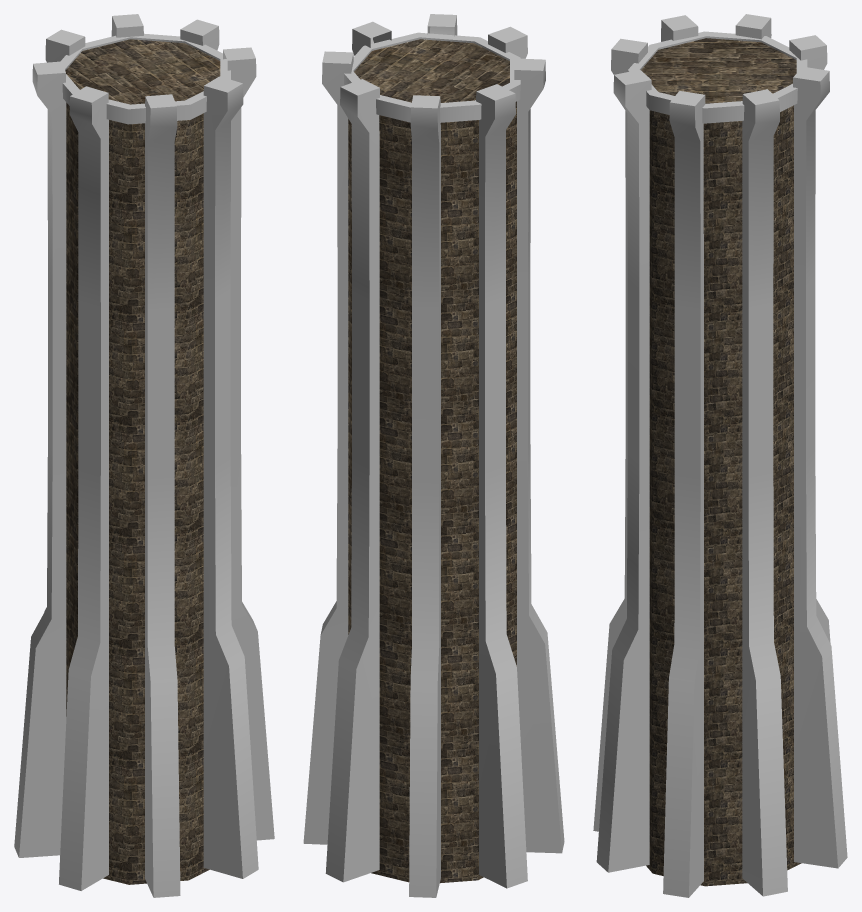
Rendered from SM_EN_2008_jianzhu05.FBX.
The picture shows the model from 3 angles, left to right: view 1: azimuth 30°, elevation 25°; view 2: azimuth 150°, elevation 25°; view 3: azimuth 270°, elevation 25°; orthographic projection.
Visible parts, largest first — view 1: SM_EN_2008_jianzhu0501, SM_EN_2008_jianzhu0502; view 2: SM_EN_2008_jianzhu0501, SM_EN_2008_jianzhu0502; view 3: SM_EN_2008_jianzhu0501, SM_EN_2008_jianzhu0502.
Part boxes in pixels (x1=…): SM_EN_2008_jianzhu0501: x1=14, y1=14, x2=274, y2=897; SM_EN_2008_jianzhu0502: x1=65, y1=39, x2=220, y2=884; SM_EN_2008_jianzhu0501: x1=303, y1=14, x2=564, y2=897; SM_EN_2008_jianzhu0502: x1=348, y1=39, x2=516, y2=883; SM_EN_2008_jianzhu0501: x1=593, y1=14, x2=847, y2=897; SM_EN_2008_jianzhu0502: x1=641, y1=38, x2=801, y2=886.
Bounding box in the file's own units: 344 × 1178 × 344.
